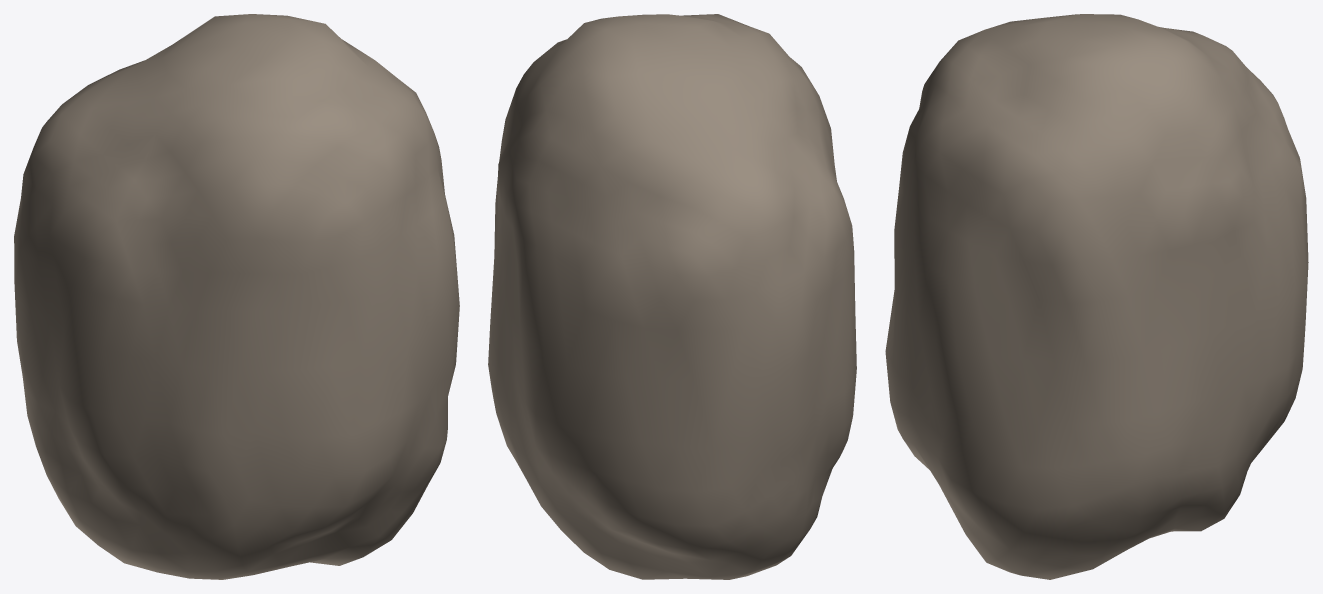
File: rock_c.glb
The picture shows the model from 3 angles, left to right: view 1: azimuth 30°, elevation 25°; view 2: azimuth 150°, elevation 25°; view 3: azimuth 270°, elevation 25°; orthographic projection. The views are drawn at different scales.
Visible parts, largest first — view 1: Rock; view 2: Rock; view 3: Rock.
Part boxes in pixels (x1,y1,x2,y2): Rock: [14, 14, 459, 579]; Rock: [488, 14, 856, 579]; Rock: [885, 14, 1308, 579].
Size of the model in its own units: 1.88 by 2.58 by 1.91.
